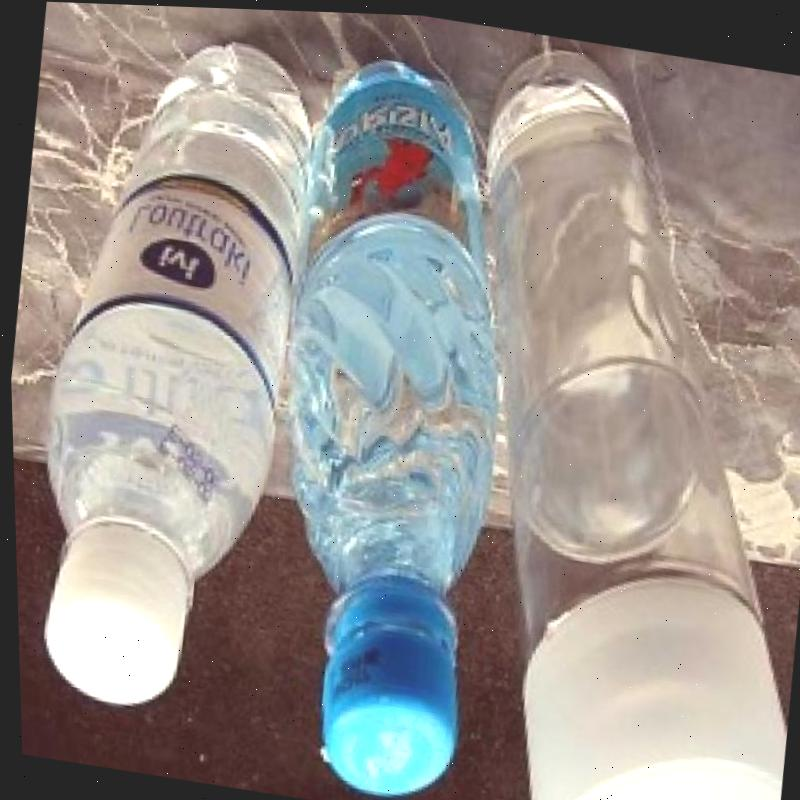botella: (0, 10, 336, 728), (230, 43, 546, 800)
